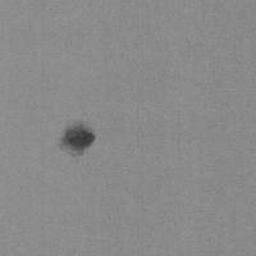Inclusion: (62, 124, 95, 154)
